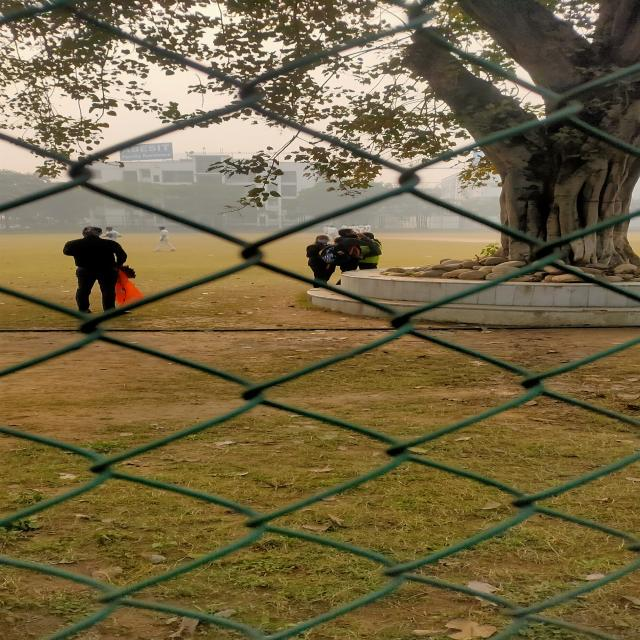unsafe: (65, 226, 132, 320), (306, 234, 336, 287), (338, 230, 364, 272)
